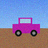vehicle: (12, 18, 40, 36)
